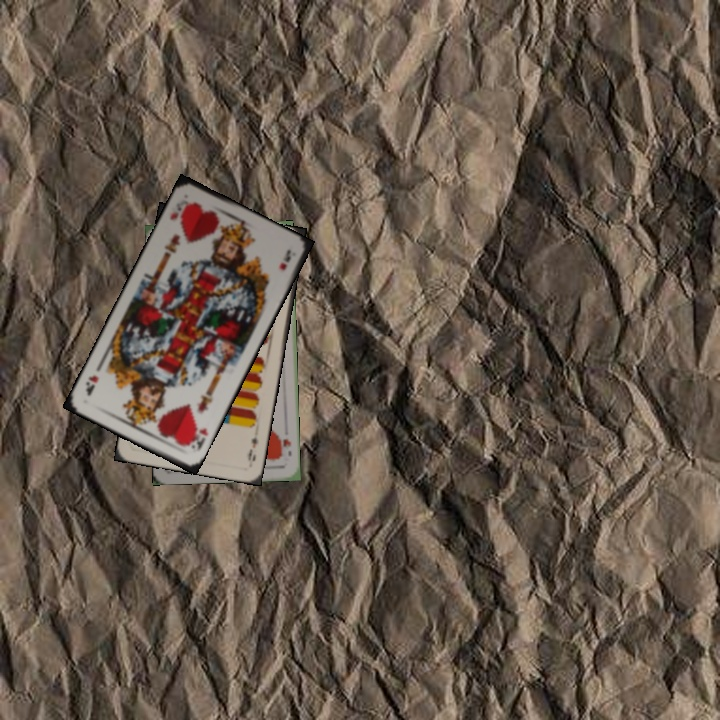E9: (244, 432, 260, 464)
HK: (183, 423, 211, 454), (166, 196, 192, 223)
HO: (275, 434, 294, 462)
